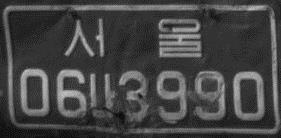0: (233, 69, 265, 122), (19, 67, 49, 117)
3: (116, 69, 149, 124)
6: (56, 68, 87, 120)
9: (155, 70, 187, 122), (193, 70, 225, 120)
나: (88, 70, 117, 124)
서울_D: (62, 17, 203, 60)
